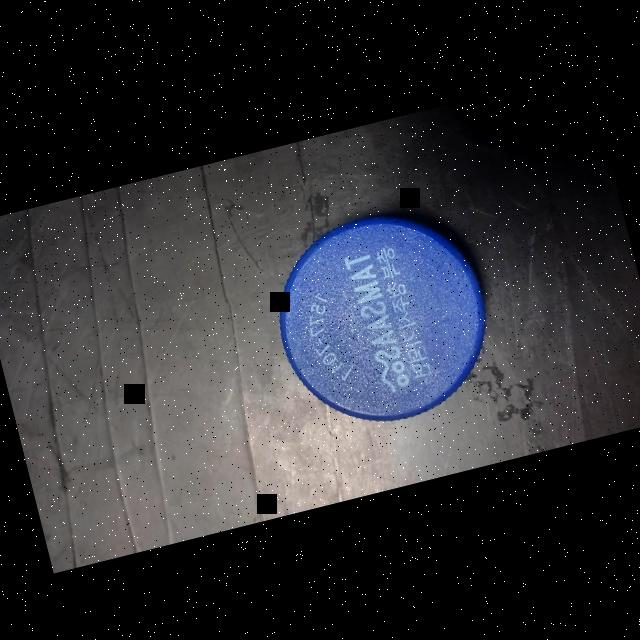plastic_bottle_cap: (252, 184, 521, 445)
